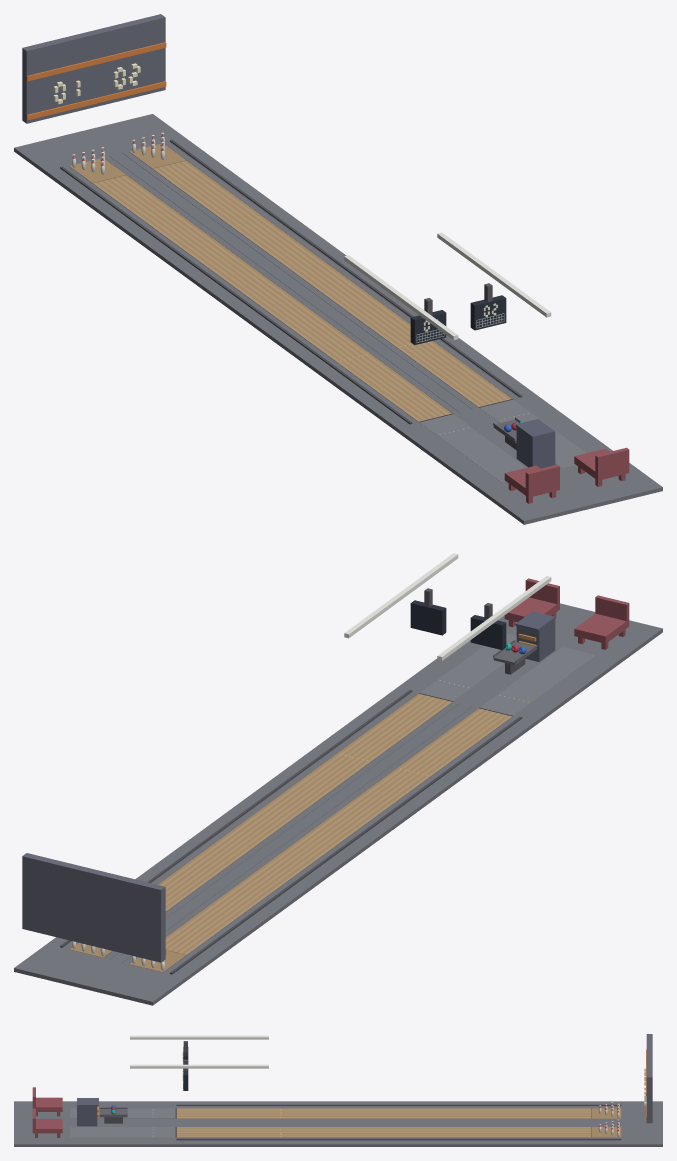
The model's file is BowlingPair01.glb.
3 views of the same model, one above another, from view 1: azimuth 30°, elevation 25°; view 2: azimuth 150°, elevation 25°; view 3: azimuth 270°, elevation 25° (orthographic). The views are drawn at different scales.
Parts seen in each view (by area): view 1: AlleyFloor, Lane_L_Surface, Lane_R_Surface, MaskingWall, Approach_L, Rail_L_Outer, Approach_R, Bench_R, Bench_L, Rail_R_Outer, ReturnHood_Body, LightBar_R (+8 smaller); view 2: AlleyFloor, MaskingWall, Lane_L_Surface, Lane_R_Surface, Approach_L, Approach_R, Bench_L, Rail_L_Outer, Bench_R, Rail_R_Outer, Screen_R, LightBar_L (+6 smaller); view 3: AlleyFloor, Lane_L_Surface, Lane_R_Surface, Rail_R_Outer, Approach_R, Gutter_L_Inner, Rail_L_Outer, Gutter_R_Inner, Gutter_L_Outer, LightBar_L, LightBar_R, Approach_L (+9 smaller).
Part boxes in pixels (bbox=[...]): AlleyFloor: bbox=[14, 114, 662, 524]; Lane_L_Surface: bbox=[93, 175, 451, 421]; Lane_R_Surface: bbox=[153, 160, 511, 406]; MaskingWall: bbox=[22, 14, 165, 123]; Approach_L: bbox=[420, 414, 526, 483]; Rail_L_Outer: bbox=[60, 166, 412, 424]; Approach_R: bbox=[479, 399, 585, 468]; Bench_R: bbox=[574, 447, 629, 486]; Bench_L: bbox=[504, 464, 559, 503]; Rail_R_Outer: bbox=[170, 139, 522, 397]; ReturnHood_Body: bbox=[516, 428, 555, 468]; LightBar_R: bbox=[437, 232, 551, 317]; AlleyFloor: bbox=[14, 603, 662, 1005]; MaskingWall: bbox=[22, 853, 165, 962]; Lane_L_Surface: bbox=[132, 708, 511, 971]; Lane_R_Surface: bbox=[76, 693, 451, 955]; Approach_L: bbox=[480, 647, 595, 715]; Approach_R: bbox=[420, 633, 516, 701]; Bench_L: bbox=[574, 595, 629, 649]; Rail_L_Outer: bbox=[170, 716, 522, 974]; Bench_R: bbox=[504, 578, 559, 627]; Rail_R_Outer: bbox=[60, 690, 412, 947]; Screen_R: bbox=[410, 600, 446, 635]; LightBar_L: bbox=[437, 576, 551, 660]; AlleyFloor: bbox=[14, 1101, 662, 1146]; Lane_L_Surface: bbox=[176, 1108, 590, 1118]; Lane_R_Surface: bbox=[176, 1127, 590, 1137]; Rail_R_Outer: bbox=[176, 1138, 621, 1140]; Approach_R: bbox=[70, 1127, 175, 1137]; Gutter_L_Inner: bbox=[176, 1118, 620, 1120]; Rail_L_Outer: bbox=[176, 1104, 621, 1105]; Gutter_R_Inner: bbox=[176, 1124, 620, 1126]; Gutter_L_Outer: bbox=[176, 1106, 620, 1108]; LightBar_L: bbox=[130, 1035, 268, 1039]; LightBar_R: bbox=[130, 1064, 268, 1068]; Approach_L: bbox=[70, 1108, 175, 1118].
Bounding box in the file's own units: 4.4 × 3.74 × 28.
